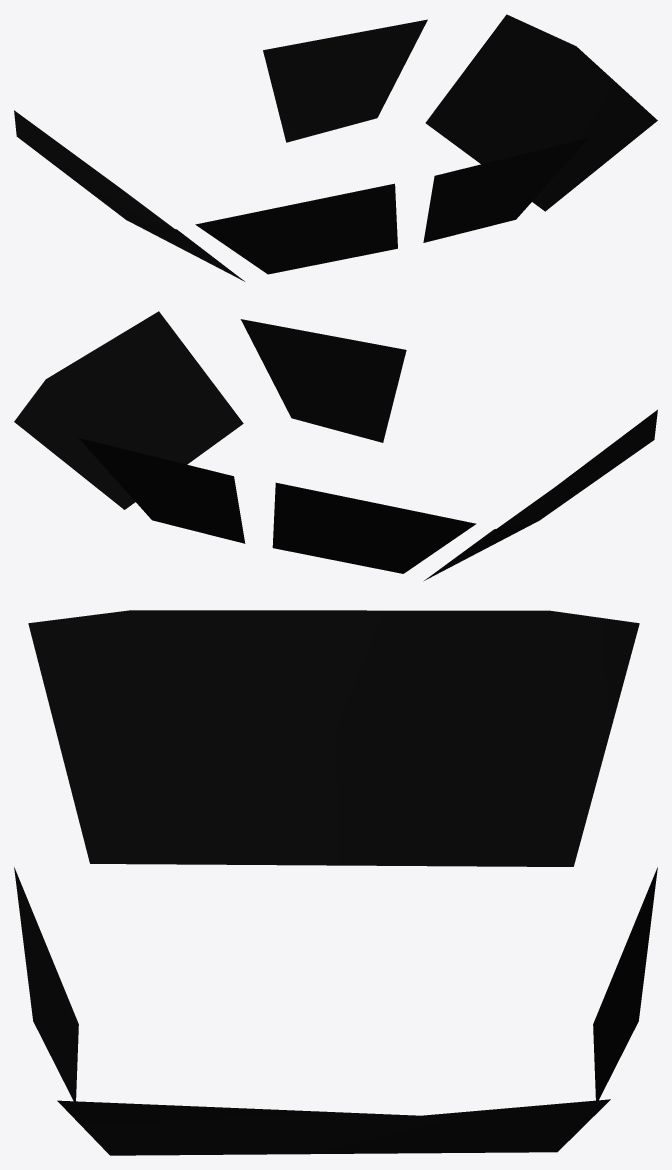
Rendered from M3_glass_d3.obj.
The picture shows the model from 3 angles, top to bottom: view 1: azimuth 30°, elevation 25°; view 2: azimuth 150°, elevation 25°; view 3: azimuth 270°, elevation 25°; orthographic projection. The views are drawn at different scales.
Visible parts, largest first — view 1: M3_glass_M3_glass_DefaultMaterial; view 2: M3_glass_M3_glass_DefaultMaterial; view 3: M3_glass_M3_glass_DefaultMaterial.
Boxes of the visible parts, left/top/right/bottom form: M3_glass_M3_glass_DefaultMaterial: left=14, top=14, right=657, bottom=281; M3_glass_M3_glass_DefaultMaterial: left=14, top=311, right=657, bottom=581; M3_glass_M3_glass_DefaultMaterial: left=14, top=610, right=657, bottom=1155.
Bounding box in the file's own units: 2.52 × 0.4409 × 1.42.
Materials: 1 (1 with a texture image).
